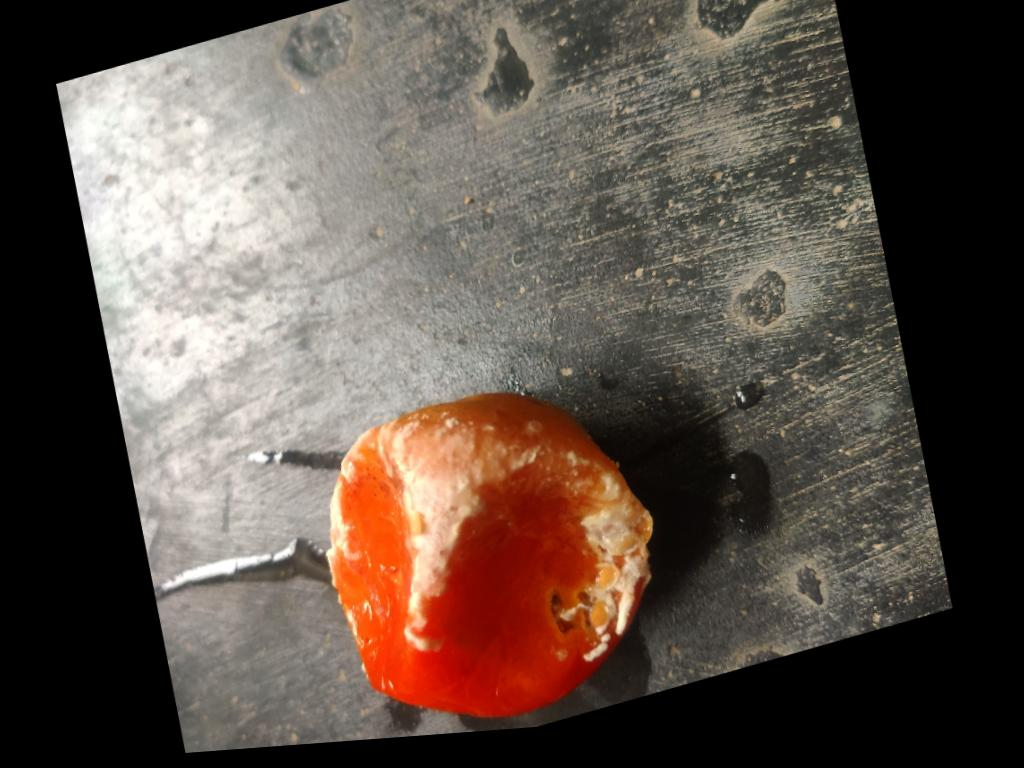rot_mold_decay: (326, 400, 551, 652), (555, 423, 651, 662)
tomato: (327, 394, 651, 717)
